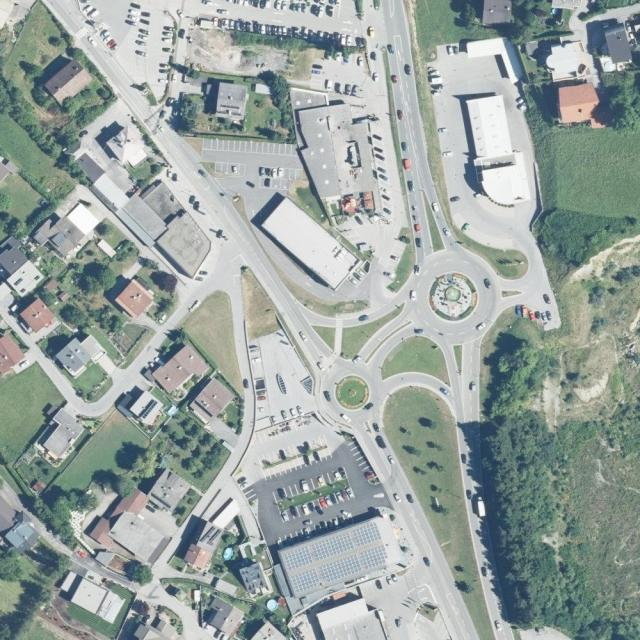building: (269, 511, 408, 613), (261, 196, 361, 291), (294, 101, 381, 208), (461, 91, 532, 212), (151, 210, 221, 281), (461, 22, 534, 85), (42, 201, 103, 262), (150, 342, 211, 400), (107, 507, 166, 564), (315, 594, 388, 640), (33, 406, 88, 464), (466, 94, 513, 160), (54, 328, 108, 381), (43, 58, 95, 108), (104, 123, 153, 173), (187, 377, 236, 427), (144, 467, 192, 516), (121, 193, 169, 241), (543, 40, 593, 86), (140, 177, 187, 225), (555, 81, 603, 127), (201, 595, 247, 639), (113, 279, 157, 322), (316, 597, 370, 632), (110, 485, 151, 529), (89, 173, 130, 214), (5, 259, 46, 300), (127, 389, 168, 429), (18, 297, 58, 337), (69, 578, 108, 615), (238, 561, 273, 601), (602, 23, 633, 68), (85, 512, 122, 549), (214, 82, 248, 122), (72, 151, 105, 184), (95, 590, 126, 625), (182, 542, 215, 574), (93, 547, 131, 574), (558, 84, 599, 107), (0, 335, 24, 373), (78, 334, 108, 363), (238, 536, 269, 561), (0, 496, 17, 532), (59, 569, 78, 594), (159, 621, 182, 640), (134, 624, 160, 639), (154, 619, 168, 633)
greenland: (481, 208, 640, 640), (54, 410, 152, 513), (145, 407, 237, 497), (23, 473, 99, 550), (407, 0, 498, 56), (0, 546, 49, 640), (522, 57, 561, 135), (22, 537, 74, 589), (109, 438, 163, 487), (128, 253, 182, 301), (0, 170, 46, 225), (601, 71, 640, 130), (14, 447, 61, 493), (84, 294, 130, 339), (230, 30, 316, 54), (315, 32, 370, 67), (89, 463, 137, 502), (125, 149, 168, 191), (218, 394, 258, 435), (87, 323, 125, 366), (53, 150, 97, 187), (69, 359, 109, 399), (36, 322, 75, 360), (575, 0, 640, 22), (56, 299, 94, 336), (110, 436, 147, 474), (72, 261, 115, 293), (20, 198, 56, 232), (121, 555, 157, 589), (33, 248, 68, 282), (92, 217, 127, 251), (229, 591, 265, 621), (2, 461, 33, 495), (450, 0, 484, 27), (147, 291, 178, 320), (109, 236, 139, 263), (267, 612, 289, 636), (354, 0, 364, 20), (372, 0, 380, 9)
metalled_road: (141, 79, 471, 468), (388, 238, 597, 640), (193, 99, 391, 331), (371, 0, 449, 266), (427, 48, 505, 240), (41, 0, 157, 128), (138, 228, 256, 342), (75, 326, 188, 434), (0, 477, 73, 562), (136, 574, 217, 640), (229, 273, 256, 460), (458, 193, 536, 251), (26, 339, 86, 412), (492, 76, 540, 167), (0, 280, 59, 352), (69, 369, 137, 426), (355, 310, 413, 364), (509, 244, 554, 308), (223, 482, 265, 545), (206, 452, 248, 504), (457, 53, 512, 85), (154, 527, 186, 570), (205, 415, 242, 452), (191, 484, 221, 518), (530, 161, 545, 227), (568, 8, 590, 53), (533, 302, 562, 332), (133, 312, 170, 335), (501, 290, 535, 309), (492, 277, 527, 294), (0, 282, 14, 318), (476, 87, 499, 95), (167, 575, 180, 582)
